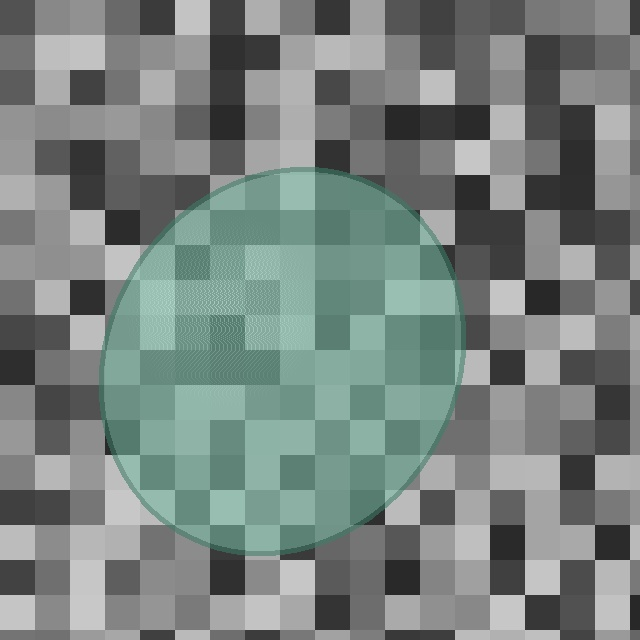lens: (101, 169, 463, 553)
